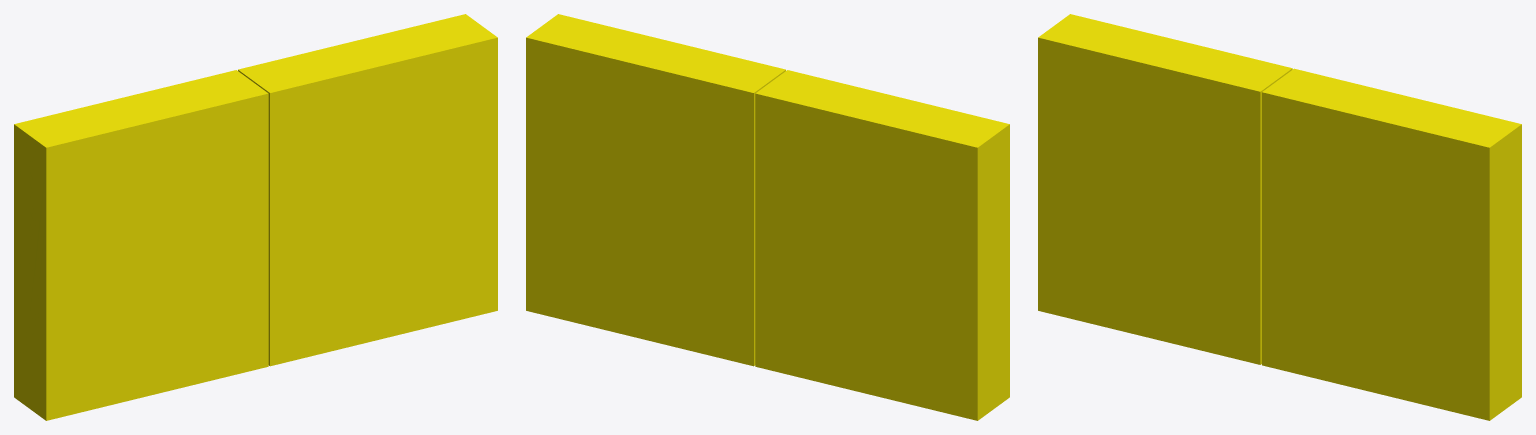
Rendered from wallgeit.fbx.
The picture shows the model from 3 angles, left to right: view 1: azimuth 30°, elevation 25°; view 2: azimuth 150°, elevation 25°; view 3: azimuth 330°, elevation 25°; orthographic projection.
Visible parts, largest first — view 1: Box001, Box002; view 2: Box001, Box002; view 3: Box002, Box001.
Part boxes in pixels (box(x1,y1,x2,y2)): Box001: box(14, 70, 268, 420); Box002: box(238, 14, 497, 366); Box001: box(755, 70, 1009, 420); Box002: box(526, 14, 785, 366); Box002: box(1262, 68, 1521, 420); Box001: box(1038, 14, 1292, 364).
Size of the model in its own units: 883 by 109 by 510.
Materials: 1 (1 with a texture image).
